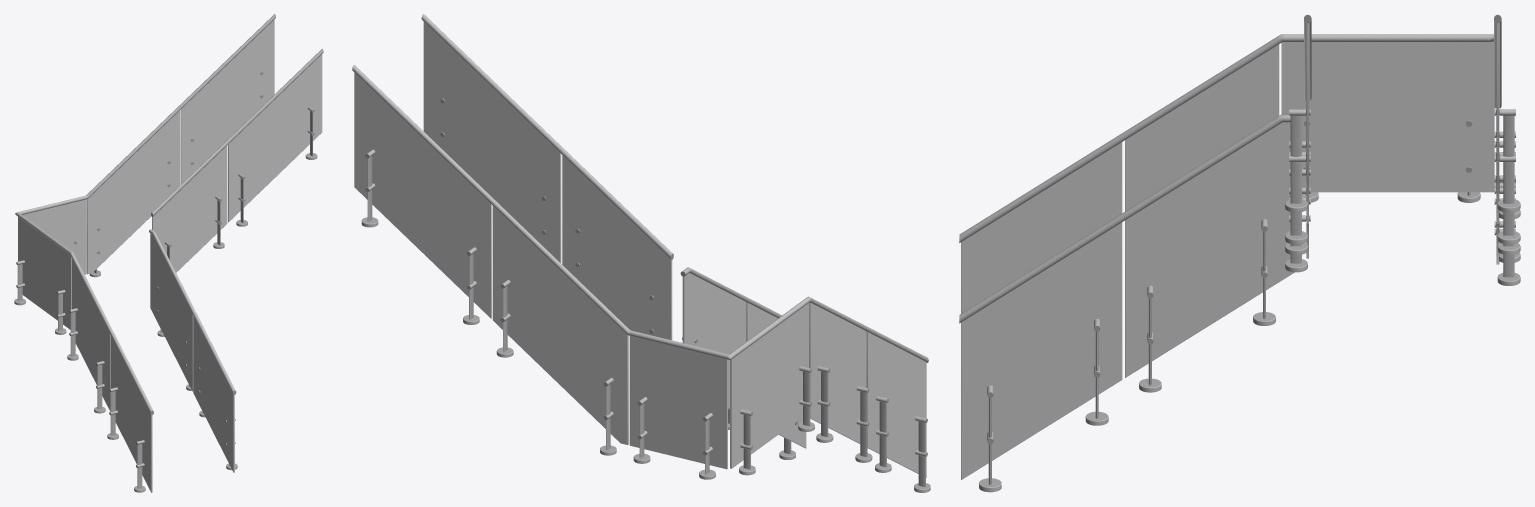
The model's file is L-Shaped_Railing_Lo-Post_Elliptical.gltf.
The picture shows the model from 3 angles, left to right: view 1: azimuth 30°, elevation 25°; view 2: azimuth 150°, elevation 25°; view 3: azimuth 270°, elevation 25°; orthographic projection. The views are drawn at different scales.
Visible parts, largest first — view 1: Casework 1 Casework 1 [8738332], Infill_Glass_Raked & Horizontal Generic [8200579], Infill_Glass_Raked & Horizontal Generic [8736296], Infill_Glass_Raked & Horizontal Generic [8199751], Infill_Glass_Raked & Horizontal Generic [8738822], Infill_Glass_Transition Generic [8202170], Infill_Glass_Raked & Horizontal Generic [8202939], Infill_Glass_Raked & Horizontal Generic [8735940], Infill_Glass_Raked & Horizontal Generic [8739593], Infill_Glass_Raked & Horizontal Generic [8737682], Object, Generic Models 11 Generic Models 11 [8762451]005 (+2 smaller); view 2: Infill_Glass_Raked & Horizontal Generic [8736296], Infill_Glass_Raked & Horizontal Generic [8200579], Casework 1 Casework 1 [8738332], Infill_Glass_Raked & Horizontal Generic [8199751], Infill_Glass_Raked & Horizontal Generic [8737682], Infill_Glass_Raked & Horizontal Generic [8738822], Infill_Glass_Raked & Horizontal Generic [8735940], Infill_Glass_Raked & Horizontal Generic [8739593], Infill_Glass_Transition Generic [8202170], Object, Generic Models 11 Generic Models 11 [8762451]005, Infill_Glass_Raked & Horizontal Generic [8202939] (+1 smaller); view 3: Infill_Glass_Raked & Horizontal Generic [8738822], Infill_Glass_Transition Generic [8202170], Infill_Glass_Raked & Horizontal Generic [8202939], Infill_Glass_Raked & Horizontal Generic [8735940], Infill_Glass_Raked & Horizontal Generic [8739593], Generic Models 1 Generic Models 1 [8568048], Generic Models 10 Generic Models 1 [8735975], Object, LS201 & LS202 - Konic Post Material LS Material [9048890], LS201 & LS202 - Konic Post Material LS Material [9048587], Infill_Glass_Raked & Horizontal Generic [8736296].
Boxes of the visible parts, x1,y1,x2,y2 form: Casework 1 Casework 1 [8738332]: (86,110,179,274); Infill_Glass_Raked & Horizontal Generic [8200579]: (228,54,322,222); Infill_Glass_Raked & Horizontal Generic [8736296]: (180,19,274,184); Infill_Glass_Raked & Horizontal Generic [8199751]: (152,145,227,272); Infill_Glass_Raked & Horizontal Generic [8738822]: (18,217,71,329); Infill_Glass_Transition Generic [8202170]: (150,233,193,391); Infill_Glass_Raked & Horizontal Generic [8202939]: (193,316,234,472); Infill_Glass_Raked & Horizontal Generic [8735940]: (111,336,152,492); Infill_Glass_Raked & Horizontal Generic [8739593]: (72,259,110,411); Infill_Glass_Raked & Horizontal Generic [8737682]: (22,199,86,274); Object: (15,14,275,253); Generic Models 11 Generic Models 11 [8762451]005: (151,48,323,216); Infill_Glass_Raked & Horizontal Generic [8736296]: (354,73,491,318); Infill_Glass_Raked & Horizontal Generic [8200579]: (423,22,561,263); Casework 1 Casework 1 [8738332]: (492,206,628,444); Infill_Glass_Raked & Horizontal Generic [8199751]: (562,155,672,340); Infill_Glass_Raked & Horizontal Generic [8737682]: (629,336,727,469); Infill_Glass_Raked & Horizontal Generic [8738822]: (730,303,809,468); Infill_Glass_Raked & Horizontal Generic [8735940]: (866,331,926,477); Infill_Glass_Raked & Horizontal Generic [8739593]: (809,302,866,443); Infill_Glass_Transition Generic [8202170]: (682,273,746,409); Object: (352,65,808,360); Generic Models 11 Generic Models 11 [8762451]005: (421,14,673,259); Infill_Glass_Raked & Horizontal Generic [8202939]: (746,302,806,448); Infill_Glass_Raked & Horizontal Generic [8738822]: (1281,42,1494,192); Infill_Glass_Transition Generic [8202170]: (1125,122,1294,377); Infill_Glass_Raked & Horizontal Generic [8202939]: (961,222,1122,479); Infill_Glass_Raked & Horizontal Generic [8735940]: (961,142,1122,313); Infill_Glass_Raked & Horizontal Generic [8739593]: (1125,44,1279,211); Generic Models 1 Generic Models 1 [8568048]: (959,114,1290,323); Generic Models 10 Generic Models 1 [8735975]: (959,34,1288,242); Object: (1289,14,1501,108); LS201 & LS202 - Konic Post Material LS Material [9048890]: (1503,115,1514,203); LS201 & LS202 - Konic Post Material LS Material [9048587]: (1290,115,1301,203); Infill_Glass_Raked & Horizontal Generic [8736296]: (1496,23,1499,223).
Size of the model in its own units: 3.08 by 3.51 by 2.8.
